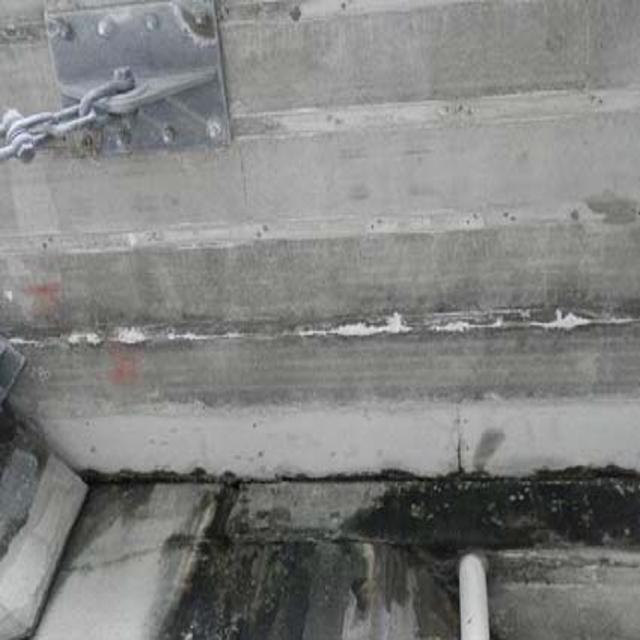freelime: (69, 298, 624, 356)
